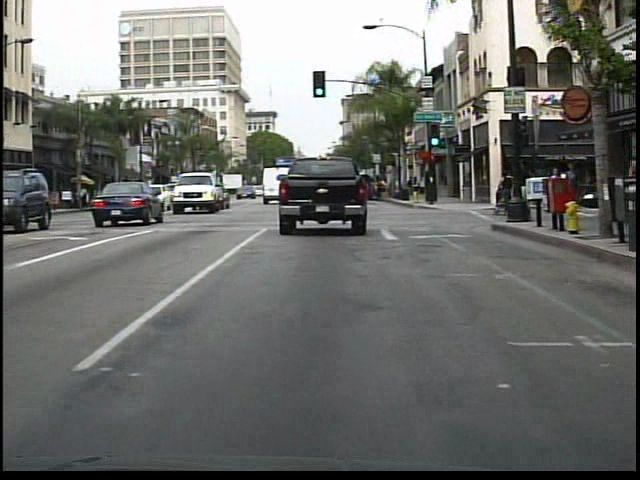car: (277, 149, 366, 240), (1, 166, 57, 232), (94, 176, 163, 229), (171, 170, 228, 214), (262, 162, 279, 204)
